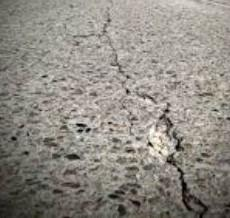crack: (90, 4, 209, 218)
